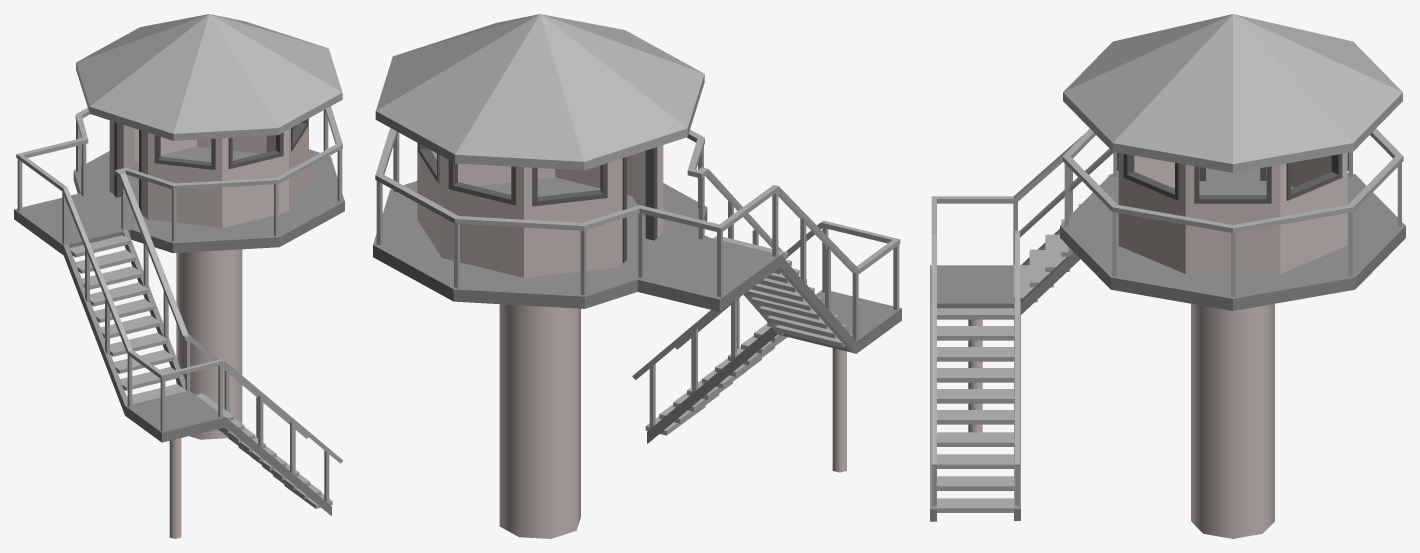
Rendered from tower_001.glb.
3 views of the same model, side by side, from view 1: azimuth 30°, elevation 25°; view 2: azimuth 150°, elevation 25°; view 3: azimuth 270°, elevation 25° (orthographic). The views are drawn at different scales.
Visible parts, largest first — view 1: tower_001; view 2: tower_001; view 3: tower_001.
Part boxes in pixels (x1,y1,x2,y2): tower_001: (14, 14, 344, 538); tower_001: (373, 14, 901, 538); tower_001: (930, 14, 1405, 538).
Size of the model in its own units: 6.84 by 9.23 by 7.84.
Materials: 1 (1 with a texture image).
